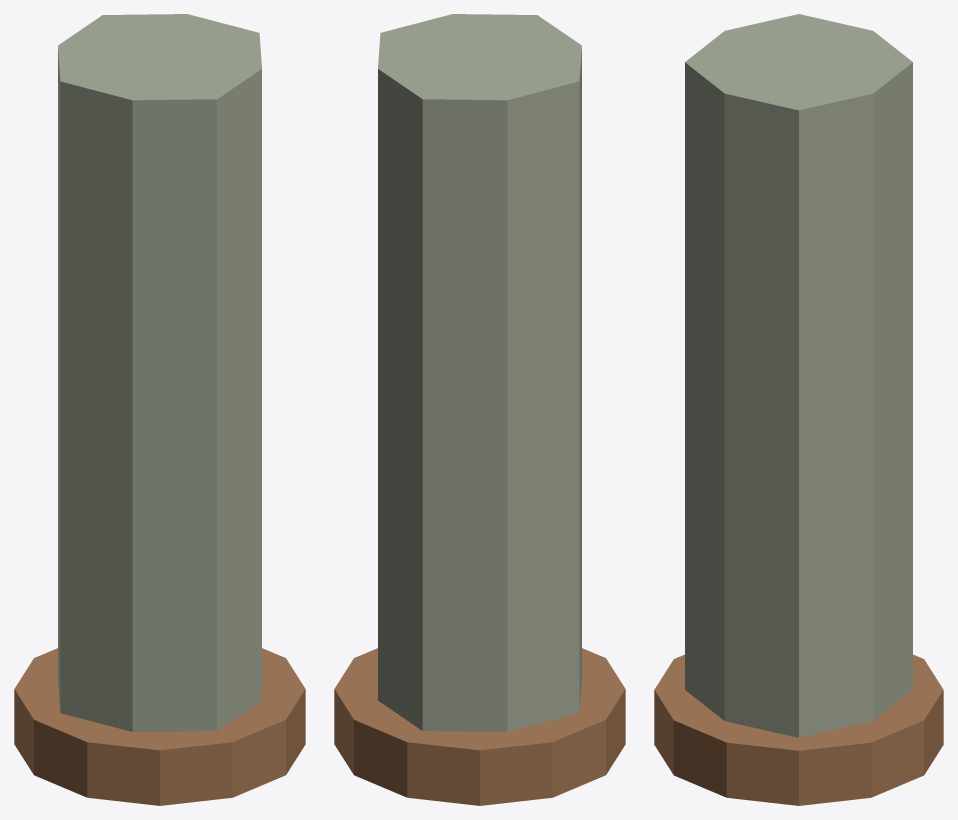
File: site_support.fbx
The picture shows the model from 3 angles, left to right: view 1: azimuth 30°, elevation 25°; view 2: azimuth 150°, elevation 25°; view 3: azimuth 270°, elevation 25°; orthographic projection.
Visible parts, largest first — view 1: support_timber, support_foot; view 2: support_timber, support_foot; view 3: support_timber, support_foot.
Part boxes in pixels (bbox=[...]): support_timber: bbox=[58, 14, 261, 731]; support_foot: bbox=[14, 648, 305, 805]; support_timber: bbox=[378, 14, 581, 731]; support_foot: bbox=[334, 648, 625, 805]; support_timber: bbox=[685, 14, 912, 737]; support_foot: bbox=[654, 654, 943, 805].
Size of the model in its own units: 38 by 100 by 38.
